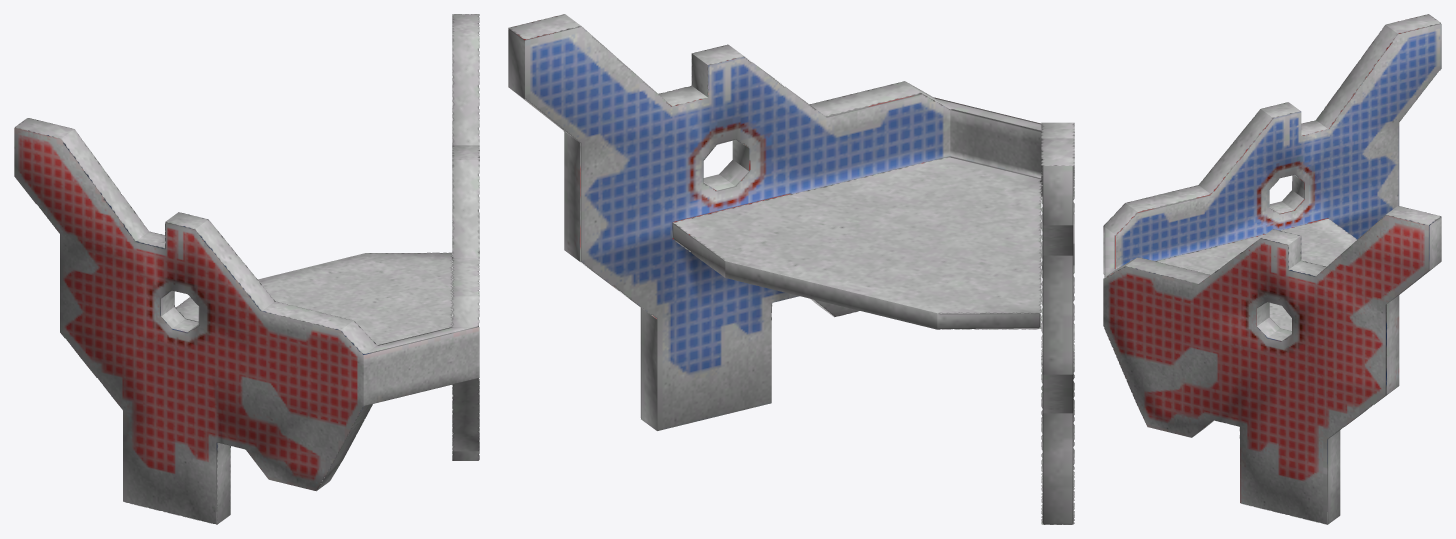
The model's file is DragonHead.fbx.
3 views of the same model, side by side, from view 1: azimuth 30°, elevation 25°; view 2: azimuth 150°, elevation 25°; view 3: azimuth 270°, elevation 25° (orthographic). The views are drawn at different scales.
Visible parts, largest first — view 1: head; view 2: head; view 3: head.
Part boxes in pixels (bbox=[...]): head: bbox=[14, 14, 479, 524]; head: bbox=[508, 14, 1074, 524]; head: bbox=[1103, 14, 1441, 524].
Bounding box in the file's own units: 2223 × 1588 × 1502.
